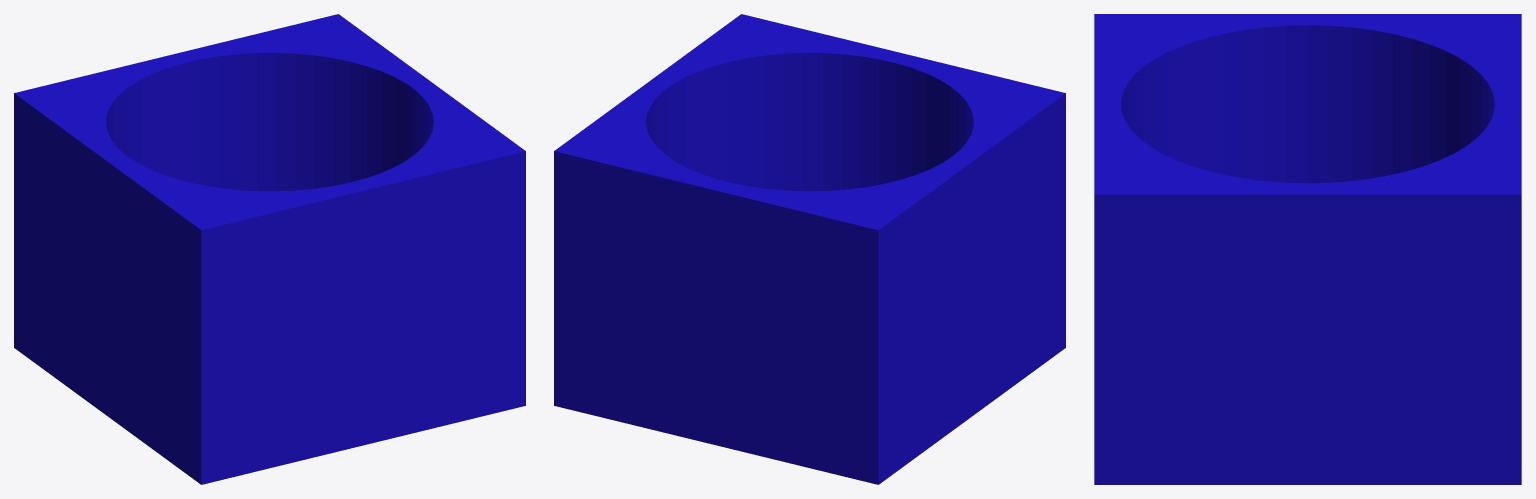
The model's file is yuankong.dae.
3 views of the same model, side by side, from view 1: azimuth 30°, elevation 25°; view 2: azimuth 150°, elevation 25°; view 3: azimuth 270°, elevation 25° (orthographic). The views are drawn at different scales.
Visible parts, largest first — view 1: Yuankong; view 2: Yuankong; view 3: Yuankong.
Part boxes in pixels (x1,y1,x2,y2): Yuankong: (14,14,525,484); Yuankong: (554,14,1065,484); Yuankong: (1094,14,1521,484).
Size of the model in its own units: 0.08 by 0.08 by 0.06.
